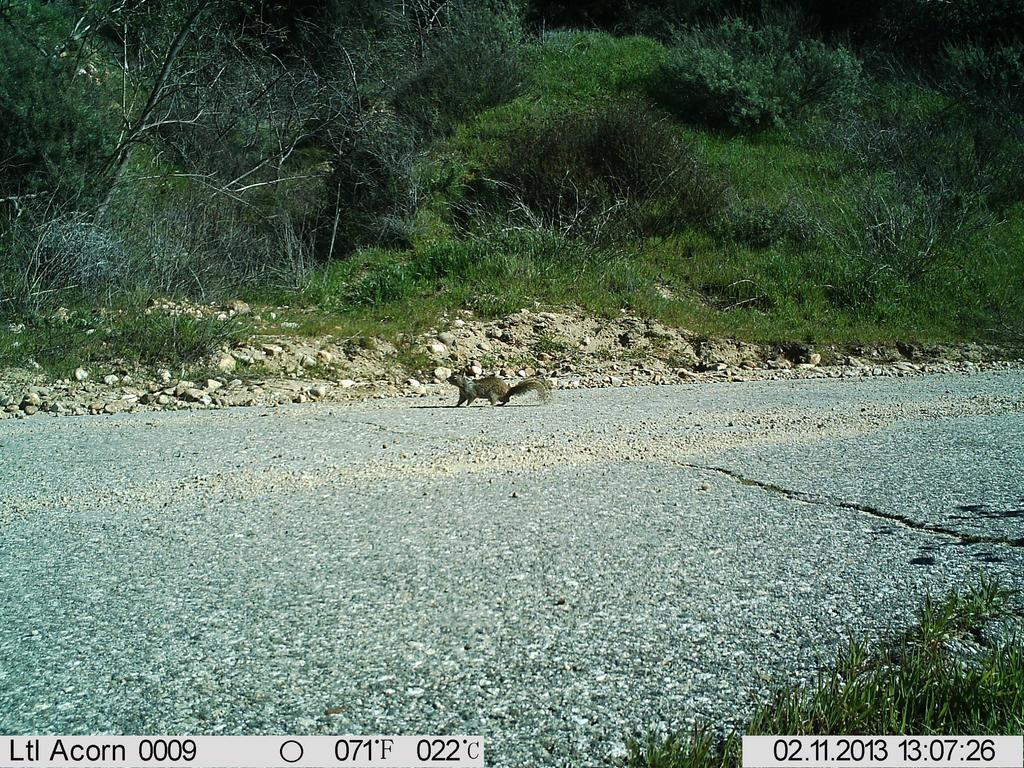squirrel: (436, 351, 559, 436)
